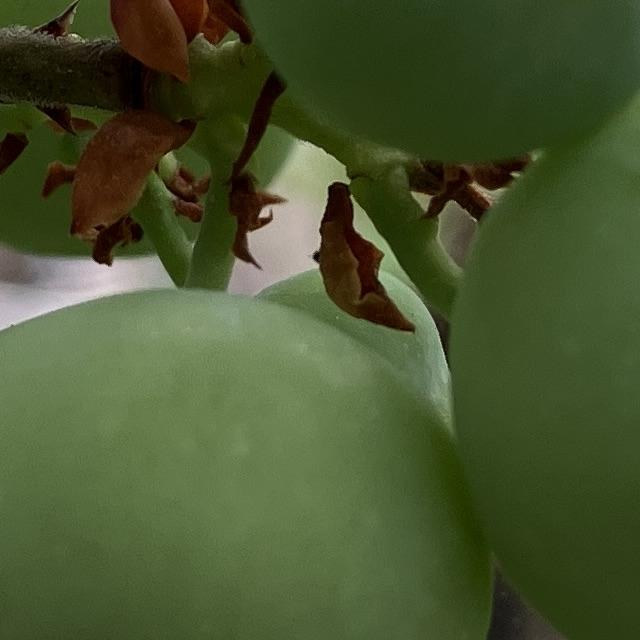Blueberries: (0, 280, 494, 640), (443, 59, 640, 640), (216, 0, 640, 166)
